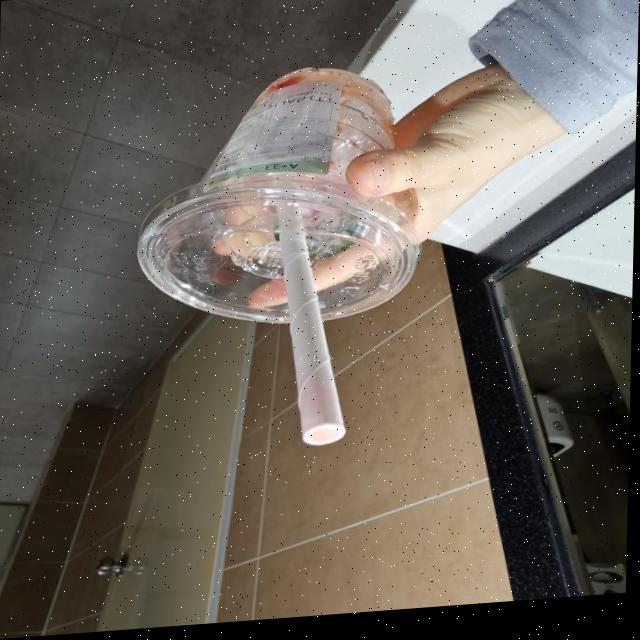cup: (134, 60, 430, 345)
